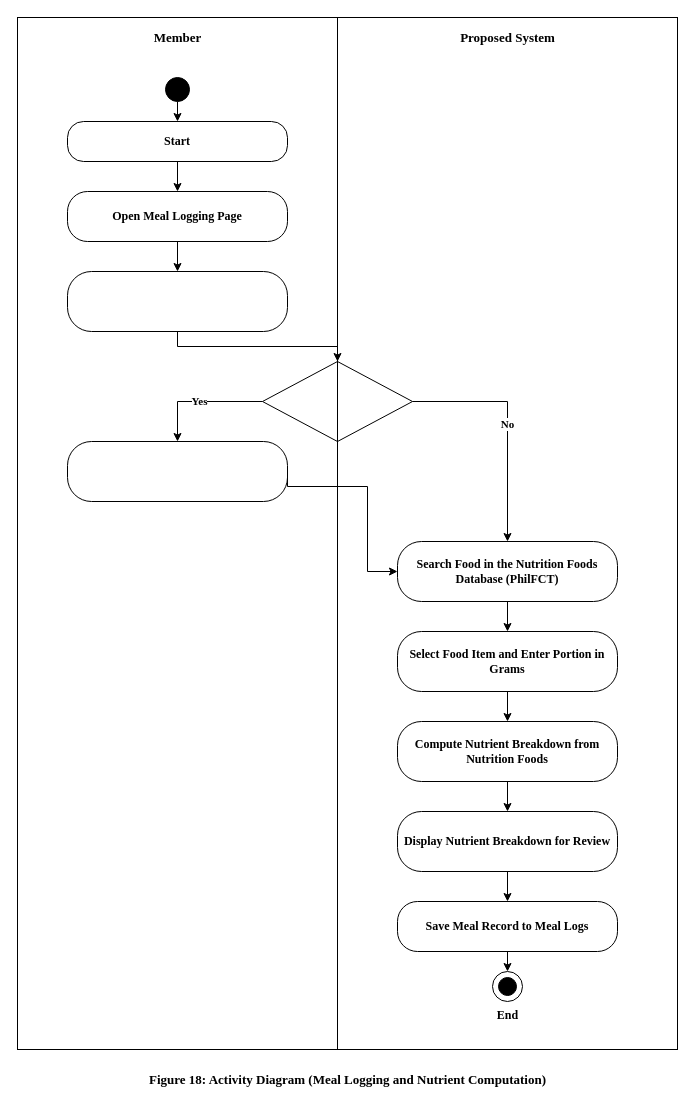
Some shapes in this 695 by 1112 pixel diagram are drawn without their labels. Each missing label, with the centre of its shape:
Attach Food Photograph?: point (337, 401)
Capture or Upload Food Photograph (stored as a record): point (177, 471)
Enter Meal Details (Food Name and Meal Type): point (177, 301)
